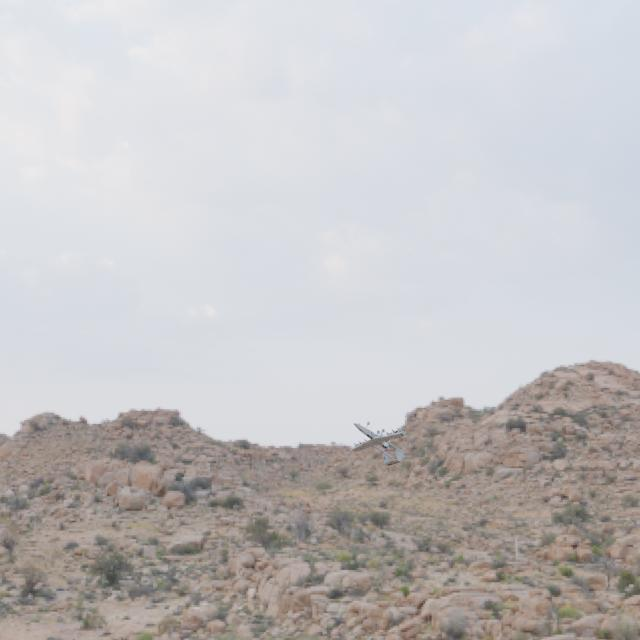Airaplan: (351, 421, 408, 466)
